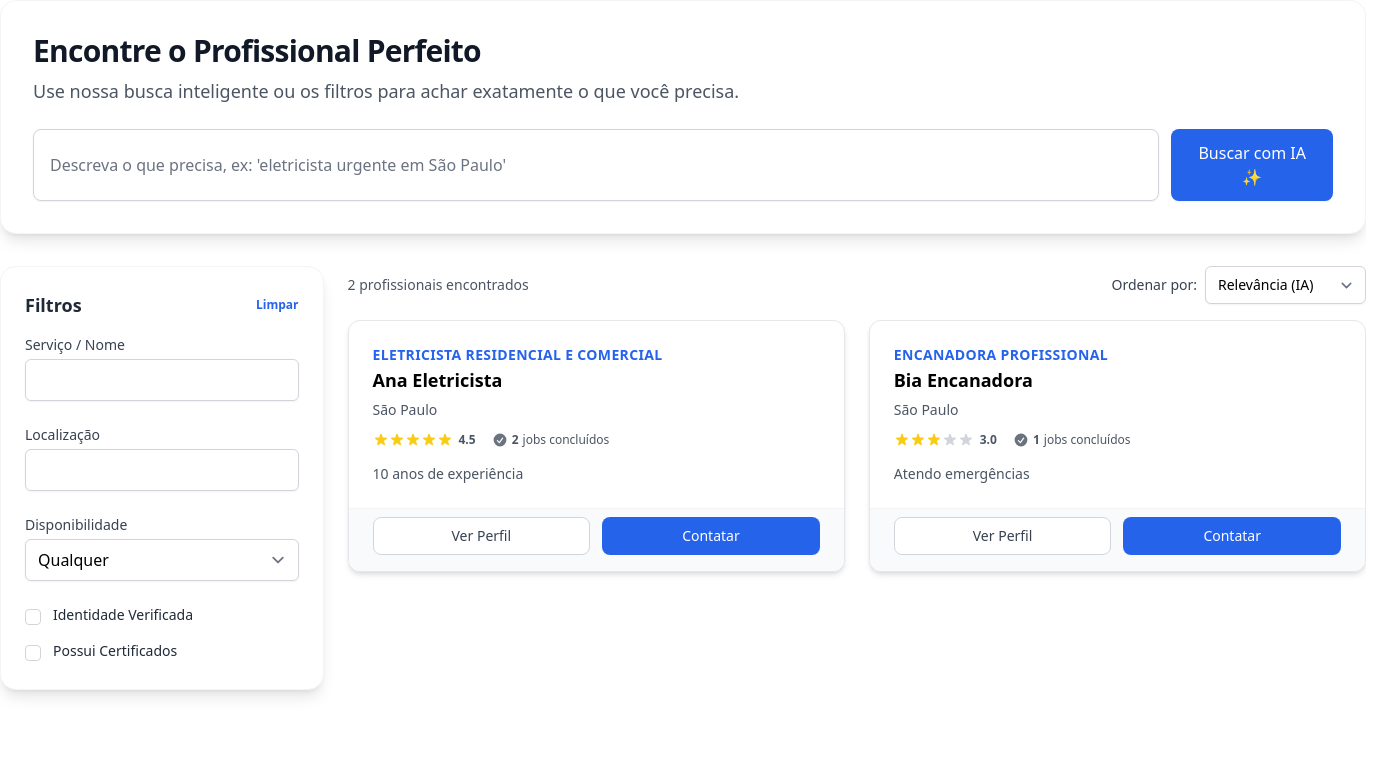
Test: FindProvidersPage › mostra contagem e lista resultados com filtros e ordenação
Expected: the text "2 profissionais encontrados" is shown, [348, 275, 529, 295]
Note: Filtro por serviço via campo lateral (service)
In the field labelled "Serviço / Nome": (162, 380) [25, 359, 298, 401], type "eletricista"
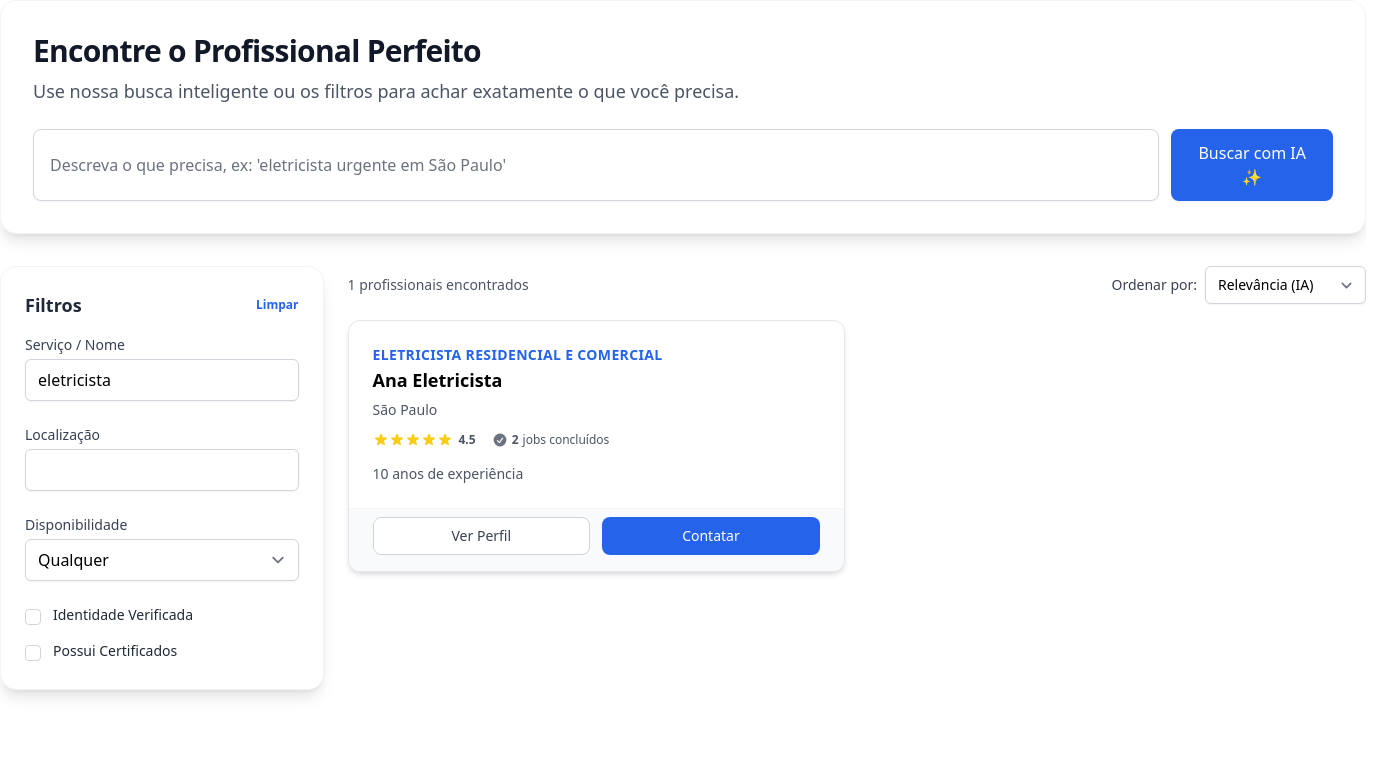
Now the text "1 profissionais encontrados" is shown, box [348, 275, 529, 295]
Note: Ordenar por experiência (jobsCompleted)
Select "Mais Experiente" in the dropdown labelled "Ordenar por:": (1286, 285) [1205, 266, 1366, 304]
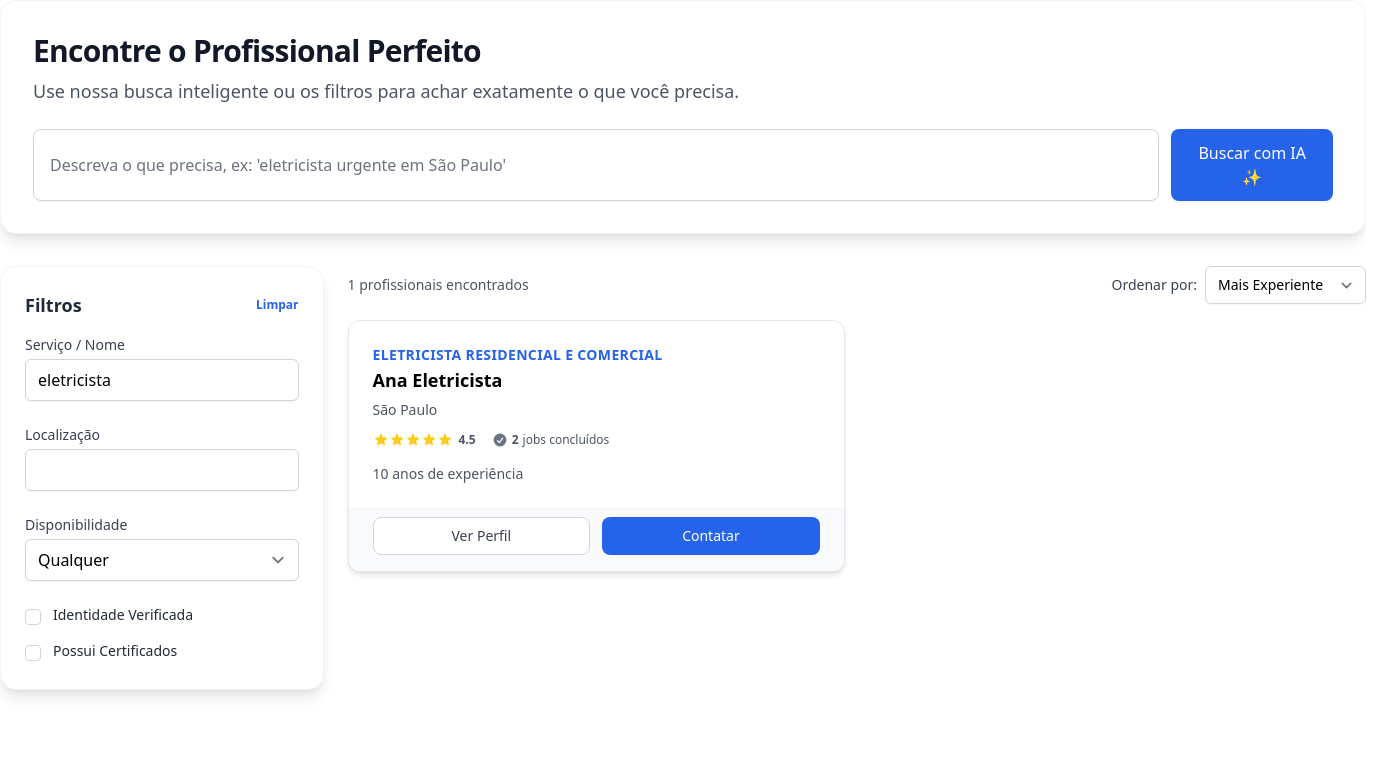
Expected: the heading "Ana Eletricista" is shown, [372, 368, 502, 392]
Note: Limpar filtros
Click the button "Limpar": (277, 305) [256, 297, 298, 313]
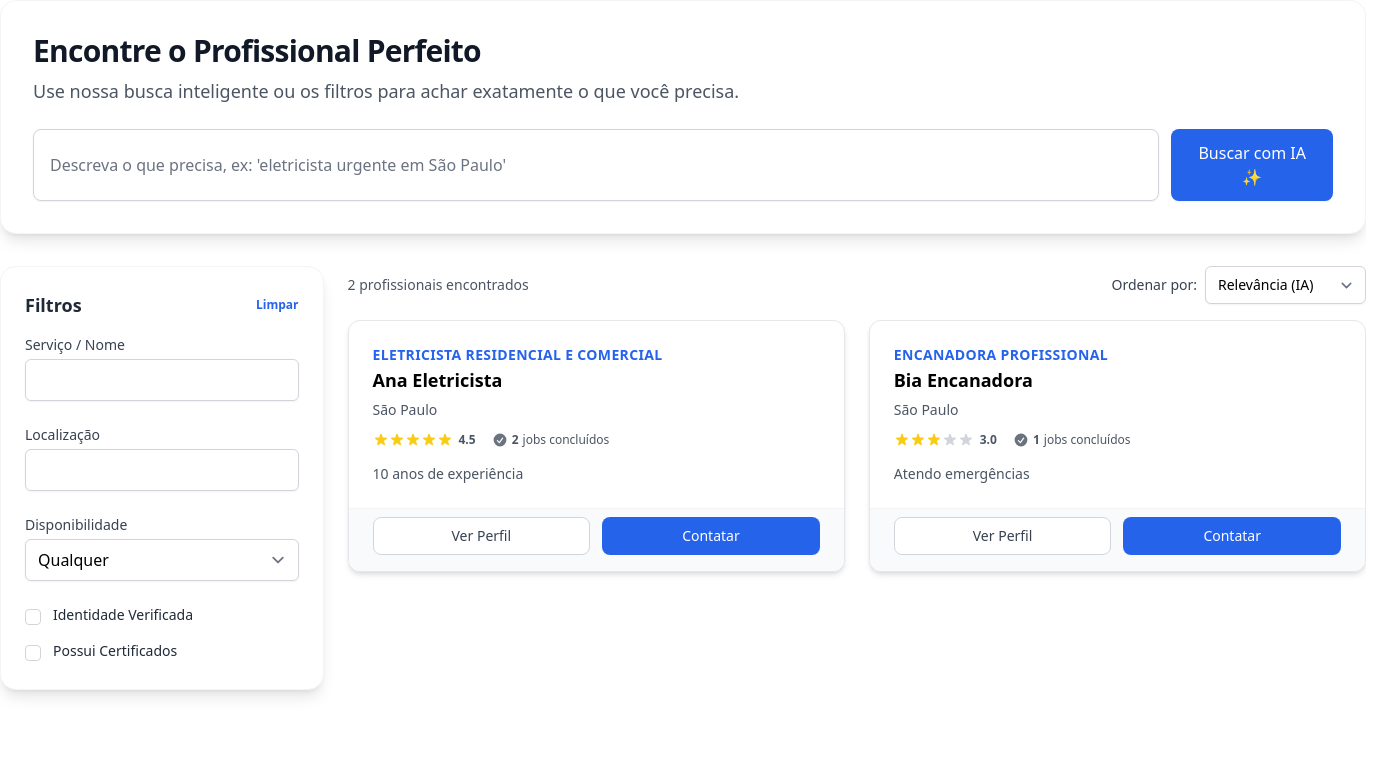
Now the text "2 profissionais encontrados" is shown, box [348, 275, 529, 295]
